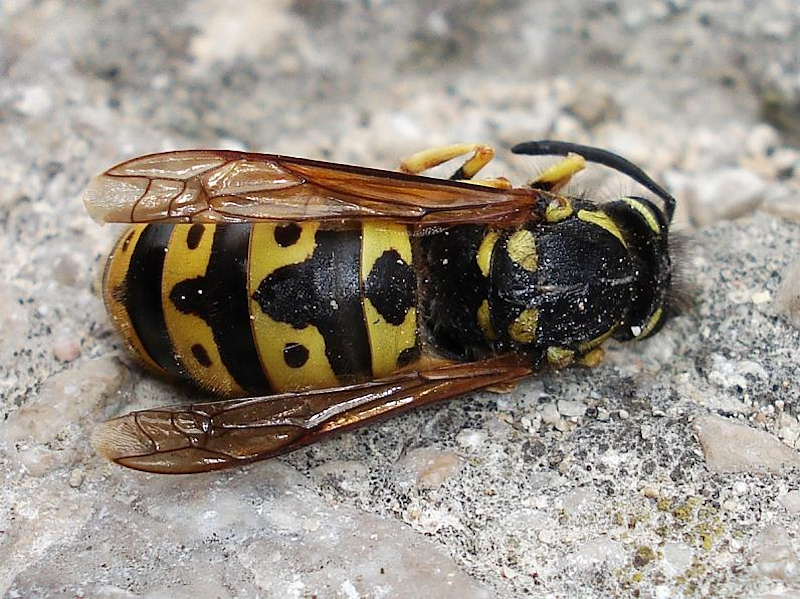chax: (52, 113, 730, 486)
